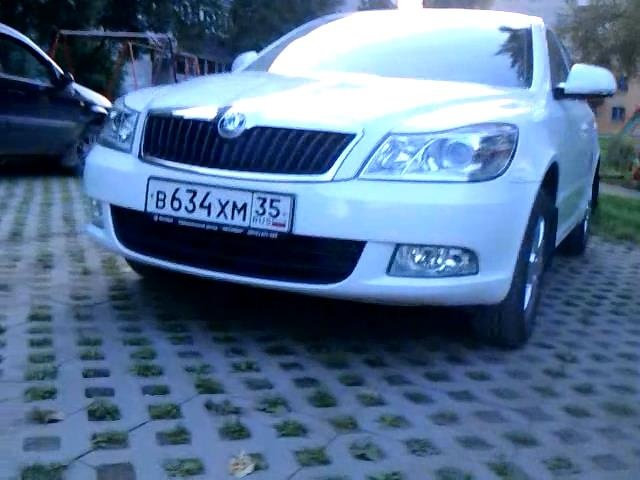car license plate: (142, 174, 297, 243)
